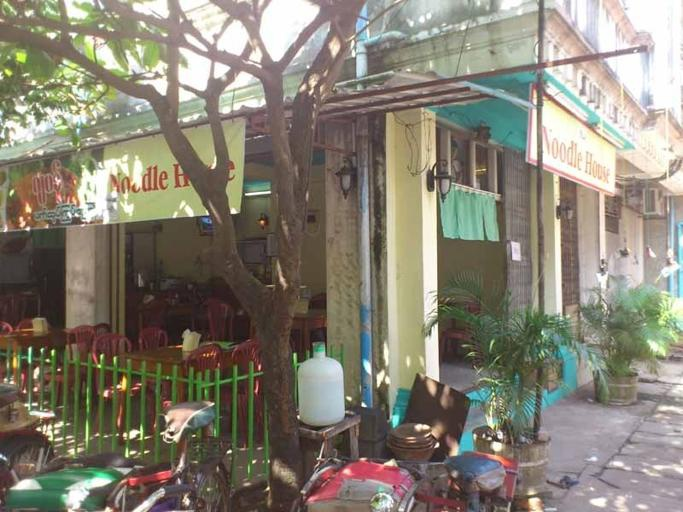non-vehicle: (136, 399, 230, 511), (423, 449, 519, 510), (0, 426, 54, 511)
